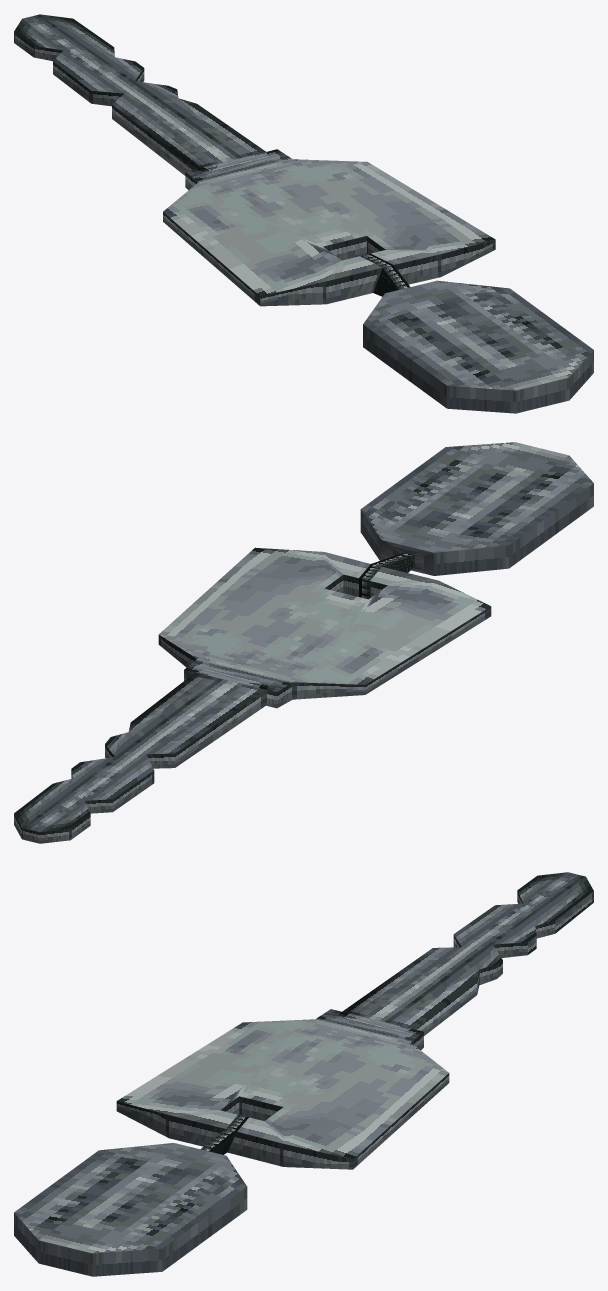
The picture shows the model from 3 angles, top to bottom: view 1: azimuth 30°, elevation 25°; view 2: azimuth 150°, elevation 25°; view 3: azimuth 330°, elevation 25°; orthographic projection.
Visible parts, largest first — view 1: key7; view 2: key7; view 3: key7.
Part boxes in pixels (x1,y1,x2,y2): key7: (14, 14, 593, 413); key7: (14, 442, 593, 843); key7: (14, 872, 593, 1276).
Size of the model in its own units: 0.342 by 0.032 by 1.28.
1 material, 1 textured.
